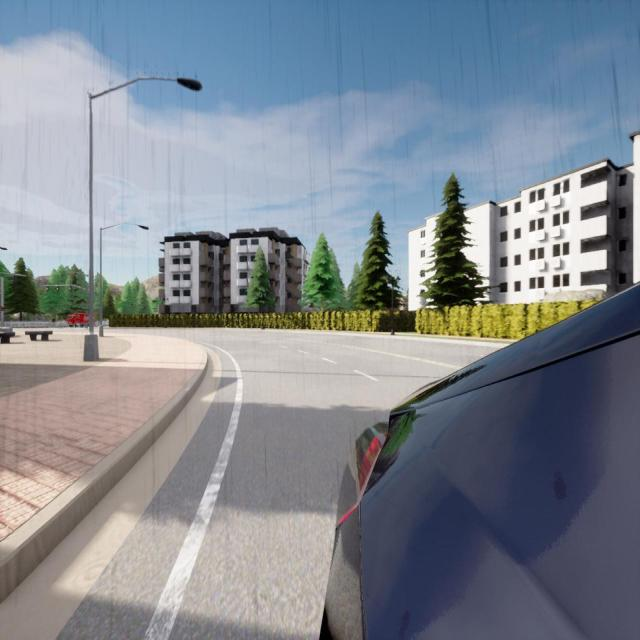Vehicle: (326, 285, 640, 638), (66, 314, 95, 327)
traffic_light: (46, 286, 48, 291), (2, 305, 4, 310), (69, 285, 71, 290), (57, 286, 59, 290)
